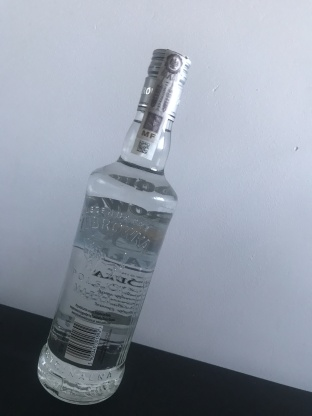nakretka: (135, 45, 192, 124)
